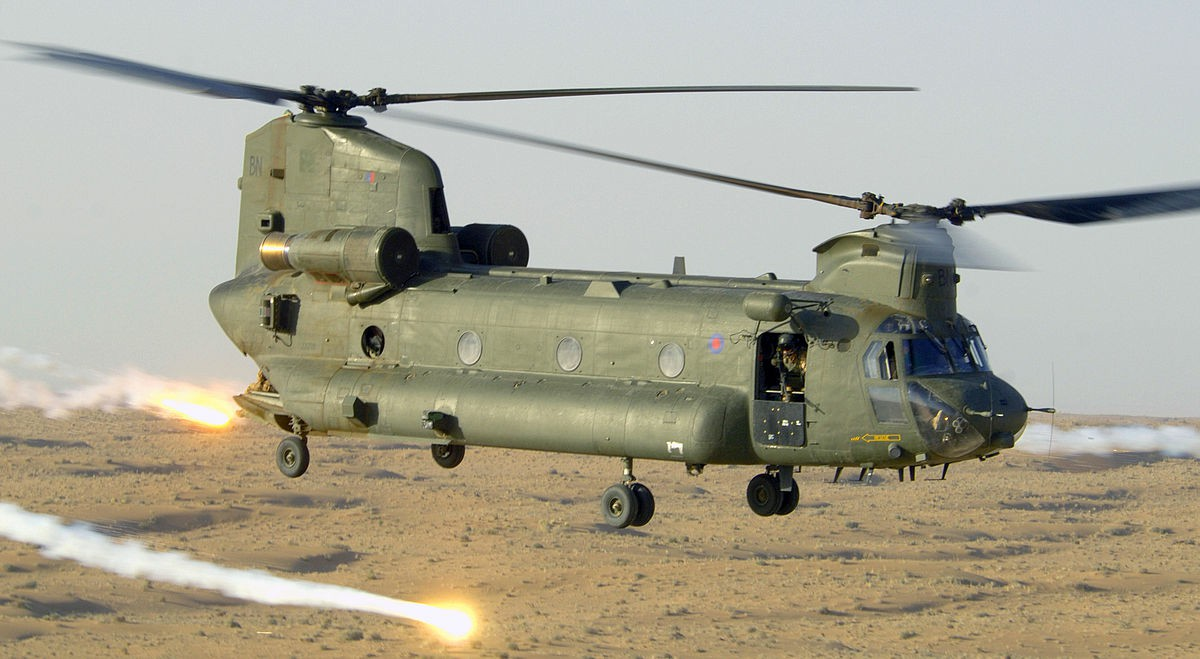chinook: (68, 53, 1200, 526)
